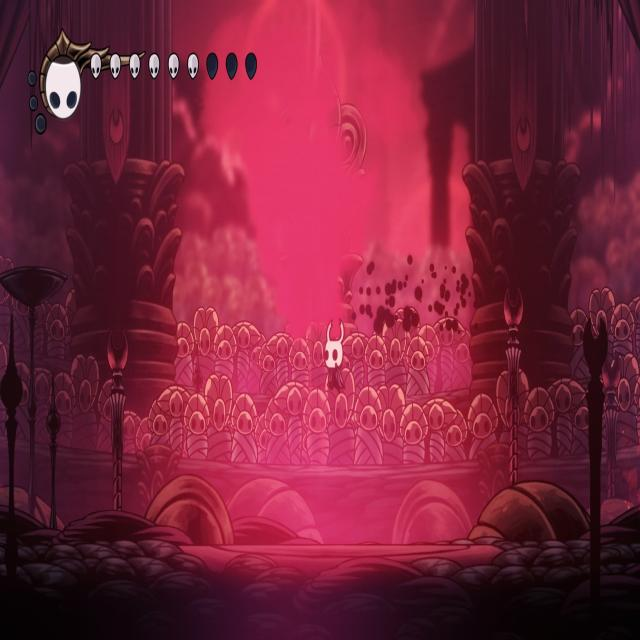Player: (323, 316, 348, 395)
